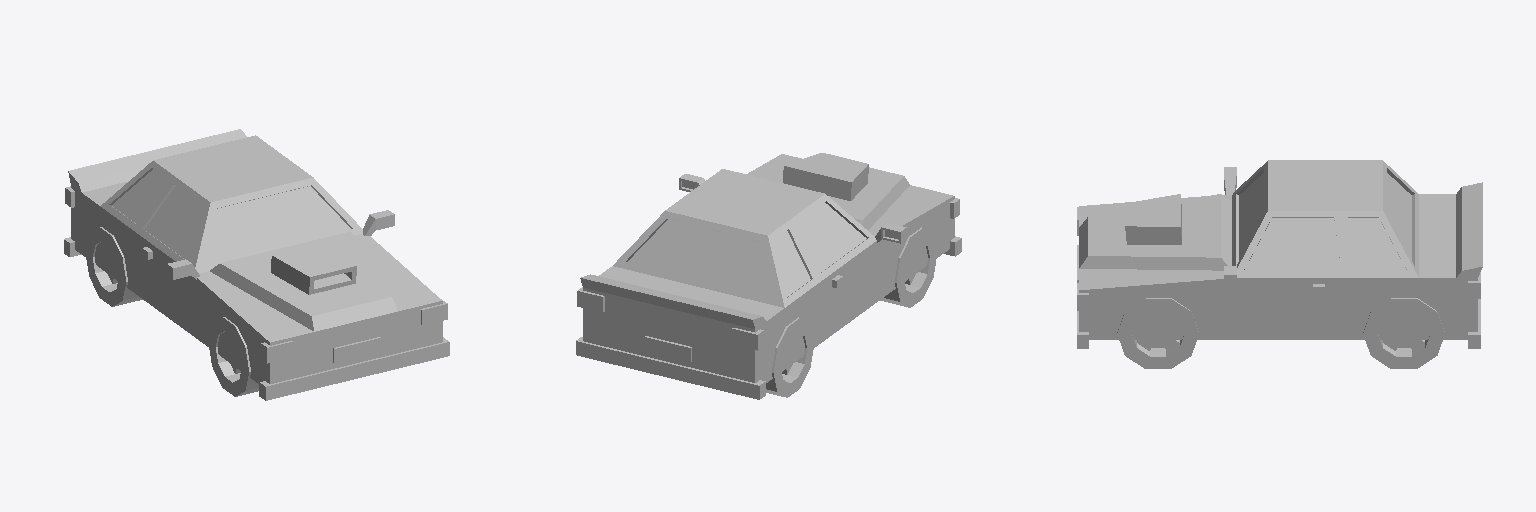
File: Coche7.obj
3 renders of one model, left to right at view 1: azimuth 30°, elevation 25°; view 2: azimuth 150°, elevation 25°; view 3: azimuth 270°, elevation 25°, orthographic.
Visible parts, largest first — view 1: Cube.003; view 2: Cube.003; view 3: Cube.003.
Part boxes in pixels (left/top/right/bottom): Cube.003: left=64, top=129, right=449, bottom=400; Cube.003: left=576, top=153, right=961, bottom=399; Cube.003: left=1077, top=160, right=1482, bottom=368.
Size of the model in its own units: 2.57 by 1.56 by 4.08.